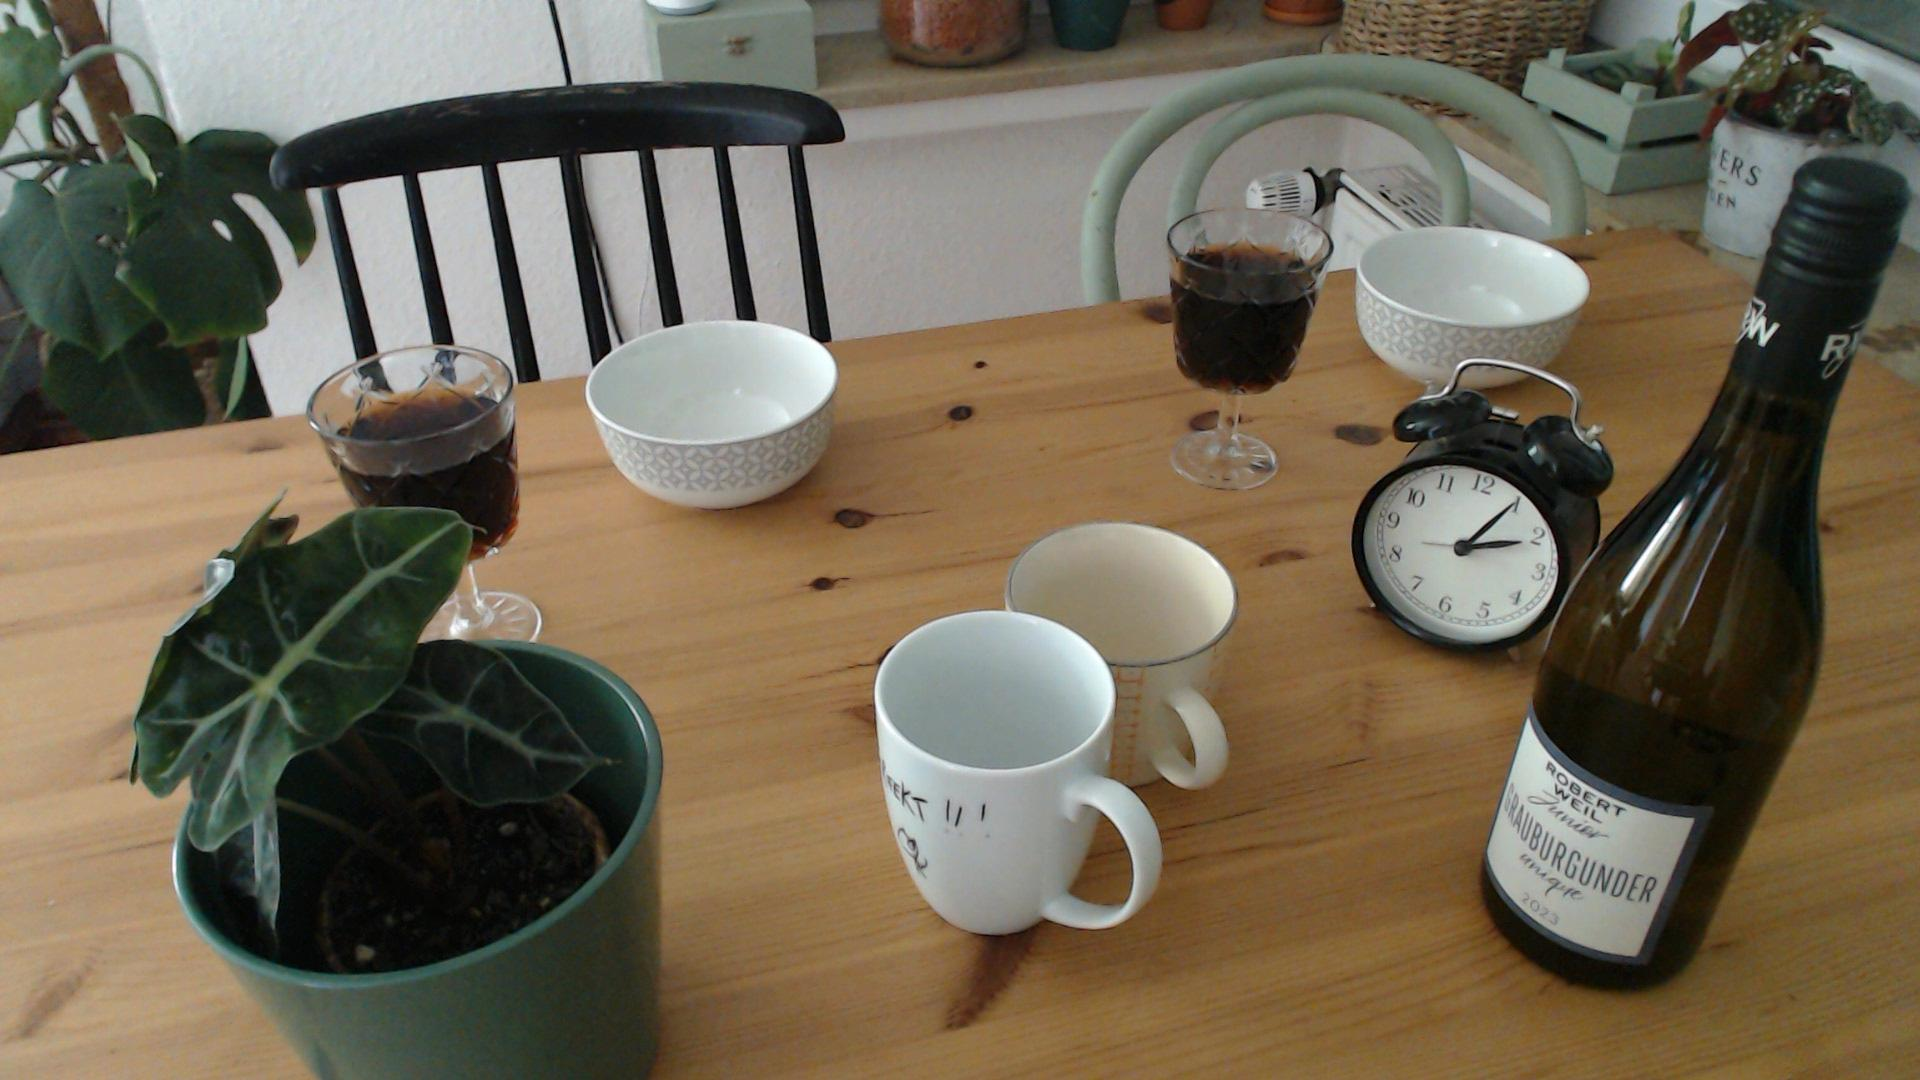bottle: (1480, 152, 1903, 988)
bowl_close: (585, 319, 841, 512)
bowl_far: (1354, 225, 1592, 386)
clock: (1356, 462, 1564, 647)
cup_close: (872, 609, 1163, 940)
cup_far: (1005, 521, 1240, 793)
potted_plant: (131, 497, 662, 1069)
wineglass_close: (307, 343, 543, 644)
wineglass_far: (1166, 203, 1335, 489)
